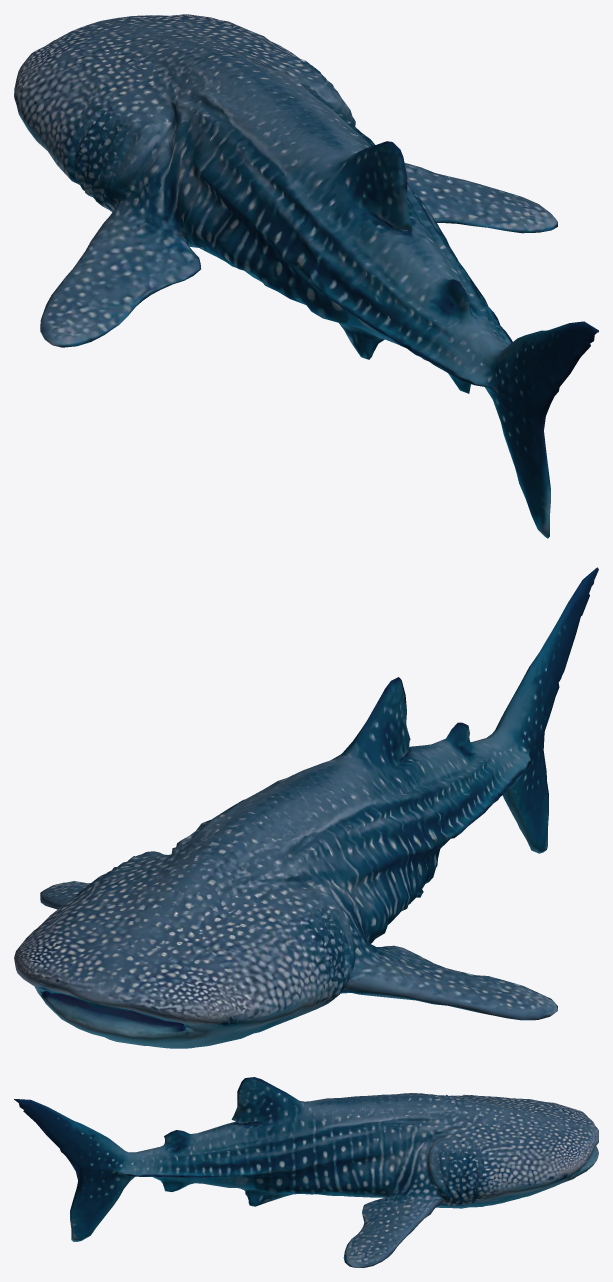
The model's file is walvishaai.glb.
The picture shows the model from 3 angles, top to bottom: view 1: azimuth 30°, elevation 25°; view 2: azimuth 150°, elevation 25°; view 3: azimuth 270°, elevation 25°; orthographic projection. The views are drawn at different scales.
Visible parts, largest first — view 1: tripo_node_ea99b2d5-8b8d-4af0-bd4f-45b4bf43b18d; view 2: tripo_node_ea99b2d5-8b8d-4af0-bd4f-45b4bf43b18d; view 3: tripo_node_ea99b2d5-8b8d-4af0-bd4f-45b4bf43b18d.
Boxes of the visible parts, <box> form: tripo_node_ea99b2d5-8b8d-4af0-bd4f-45b4bf43b18d: <box>14,14,598,538</box>; tripo_node_ea99b2d5-8b8d-4af0-bd4f-45b4bf43b18d: <box>14,567,598,1048</box>; tripo_node_ea99b2d5-8b8d-4af0-bd4f-45b4bf43b18d: <box>14,1077,598,1267</box>.
Bounding box in the file's own units: 3.36 × 1.8 × 5.78.
Materials: 1 (1 with a texture image).
